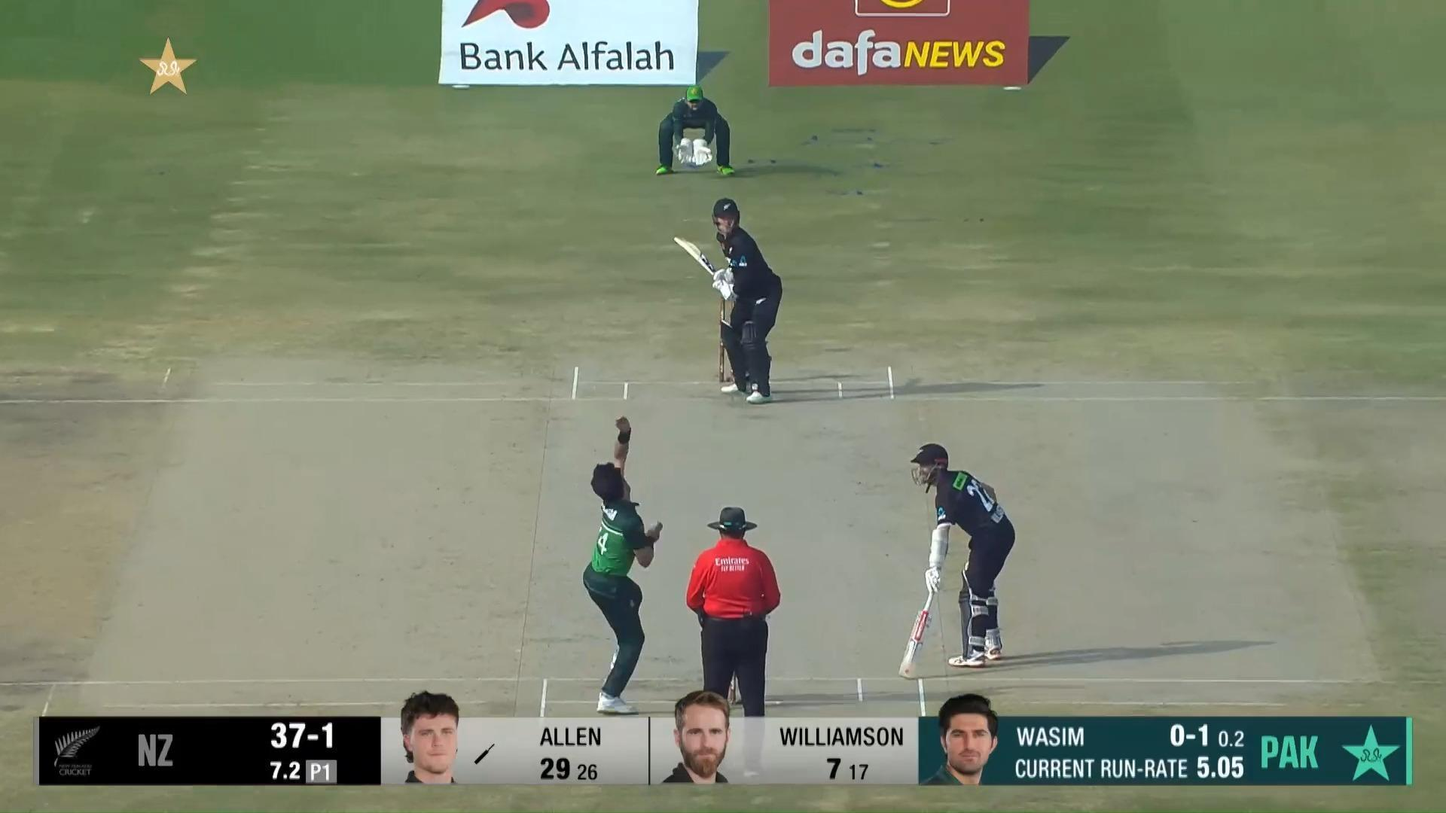BM 1: (673, 196, 784, 405)
BO: (582, 416, 665, 716)
